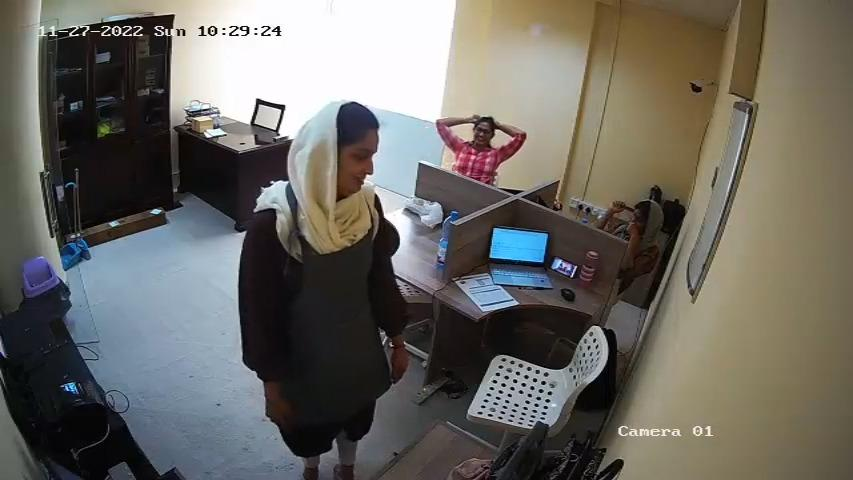apron: (279, 207, 382, 381)
